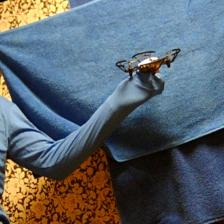drone: (115, 46, 181, 79)
